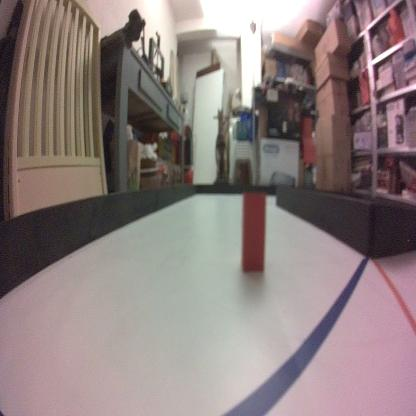red: (241, 190, 267, 274)
